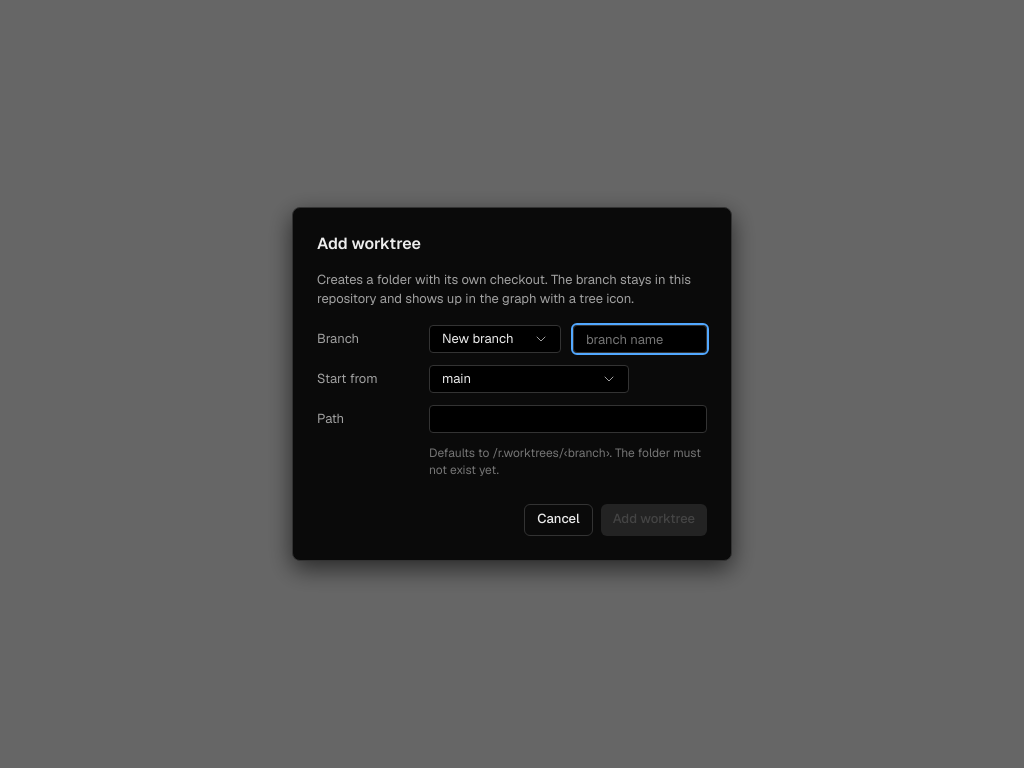
Test case: AddWorktreeDialog › keeps the dialog open with git's output when the add fails, and refuses an existing folder
Click the dropdown with test id "select-button" at (495, 339), box [429,325,561,353]
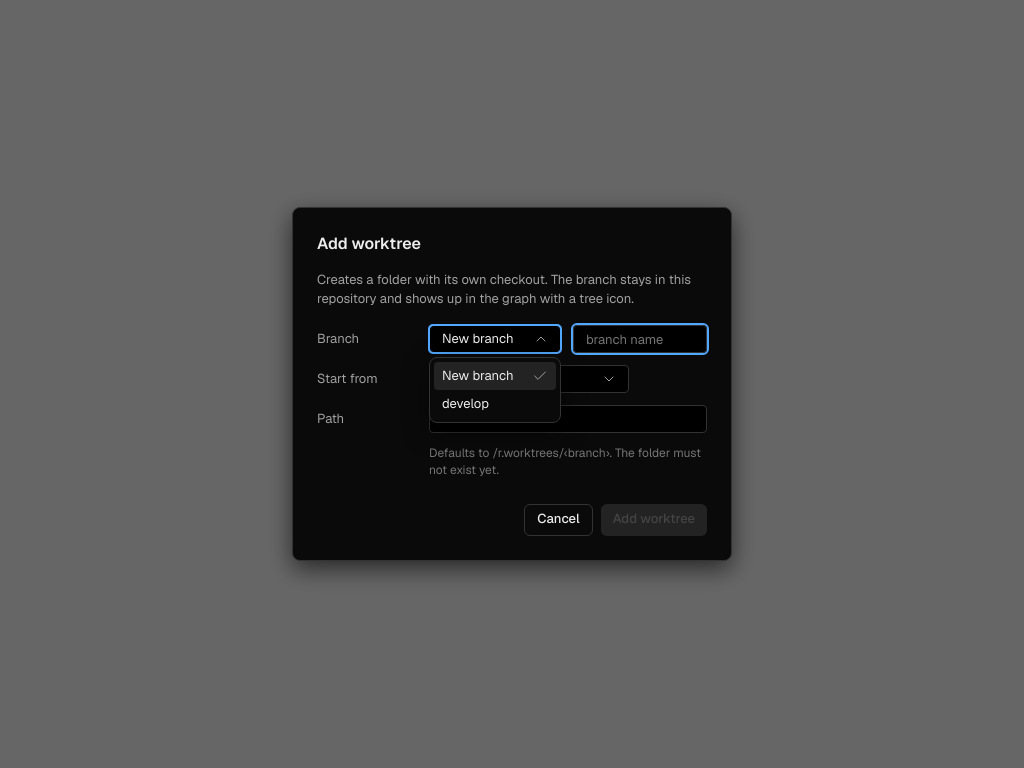
Click the option "develop" at (465, 403), box [442,395,489,412]
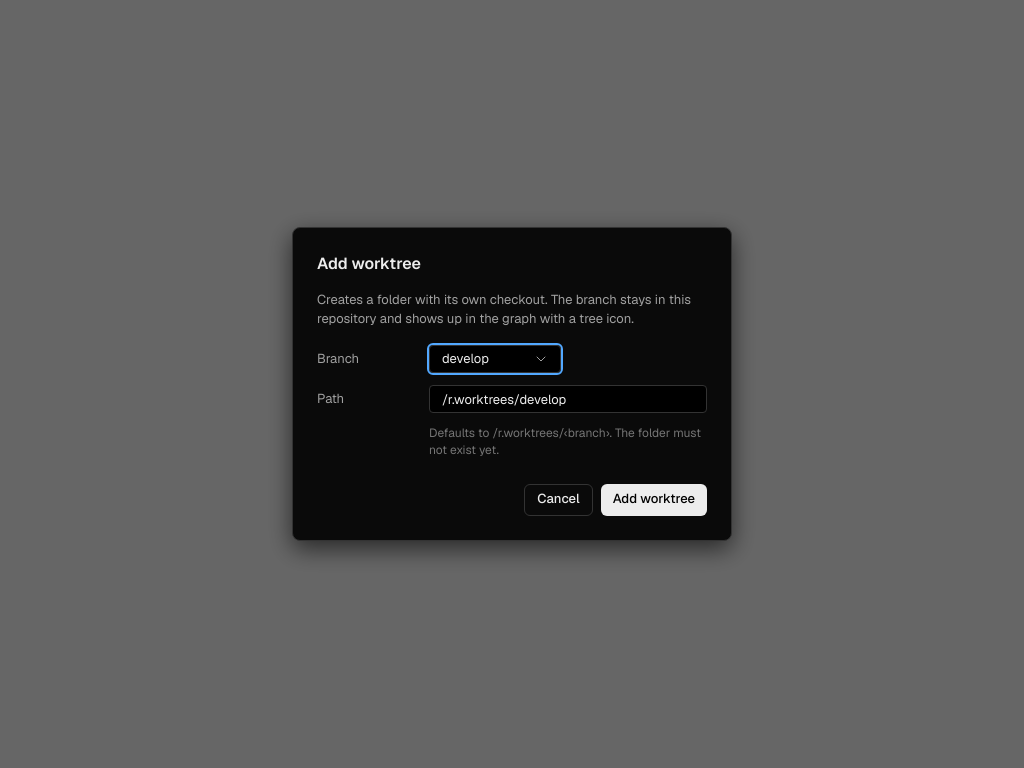
Now the field with test id "add-worktree-path" holds "/r.worktrees/develop"
Replace the text in the field with test id "add-worktree-path" with "/taken" at (568, 399), box [429,385,707,413]
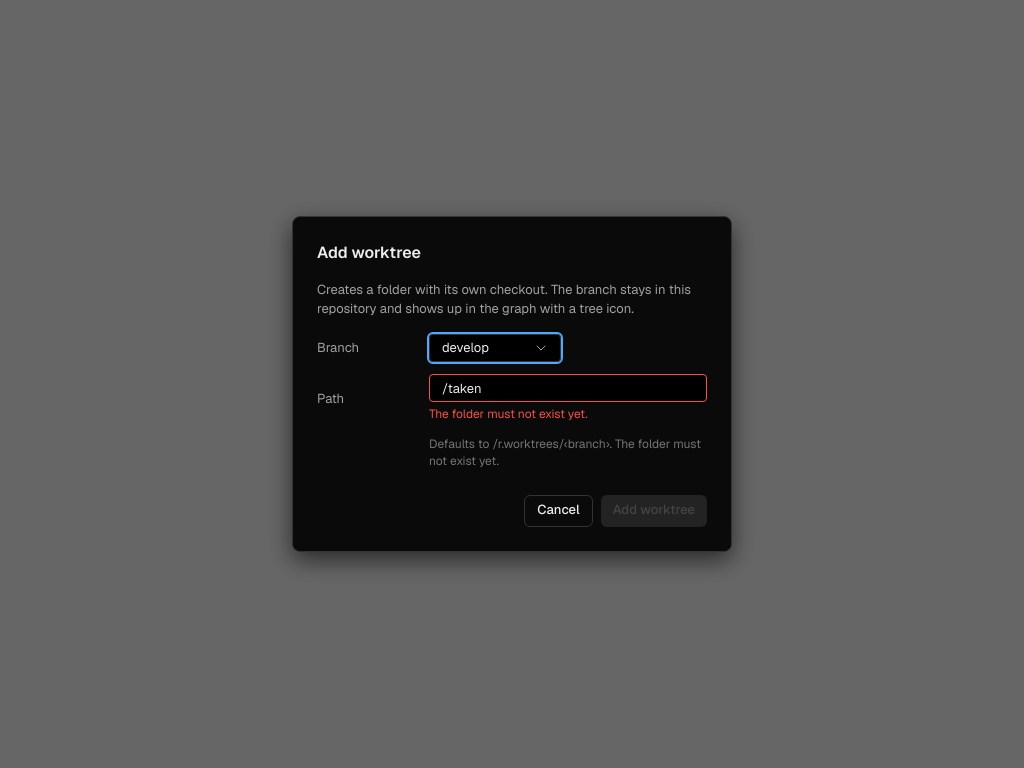
Expected: the dialog shows "The folder must not exist yet.", [429,406,588,422]
Now the button with test id "dialog-confirm" is disabled, box [601,494,707,526]
Replace the text in the field with test id "add-worktree-path" with "/free" at (568, 388), box [429,374,707,402]
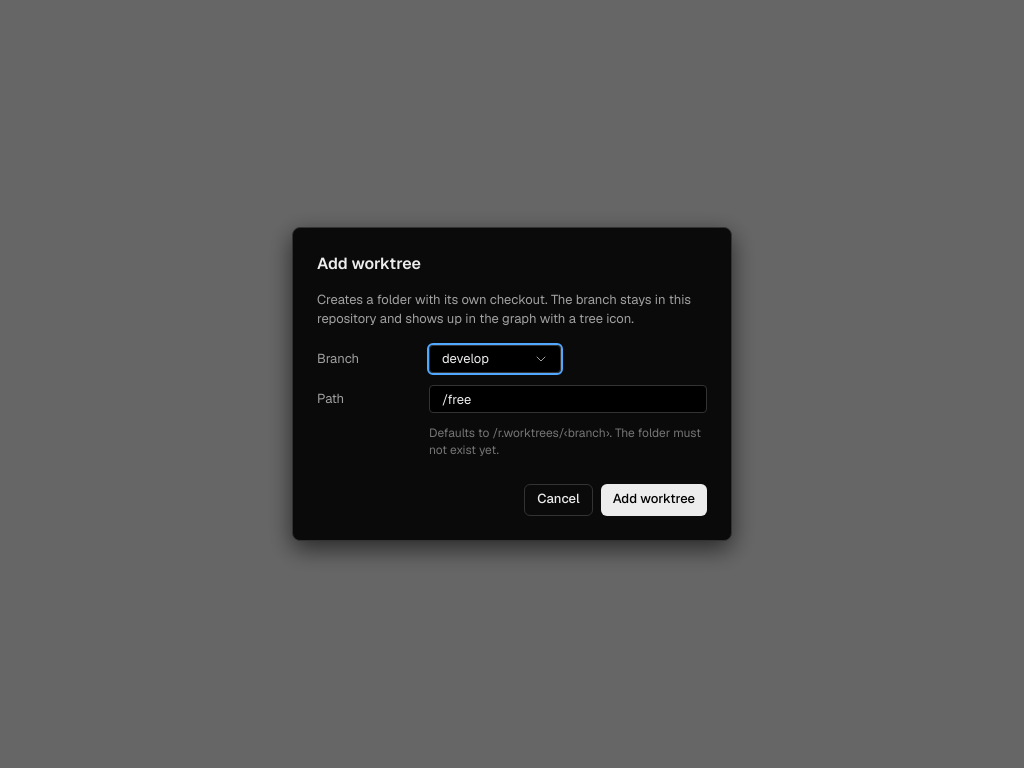
Click the button with test id "dialog-confirm" at (654, 500), box [601,484,707,516]
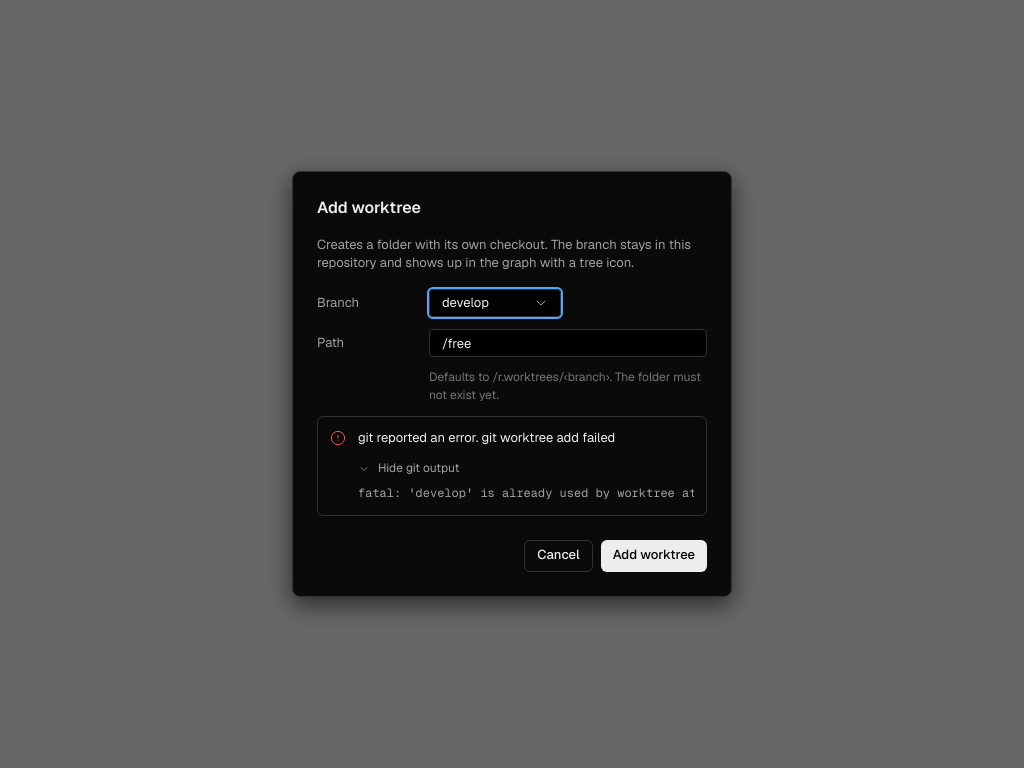
Now the message with test id "add-worktree-error" shows "git reported an error.", box [358,429,615,446]
Now the message with test id "add-worktree-error" shows "already used by worktree", box [358,485,711,501]
